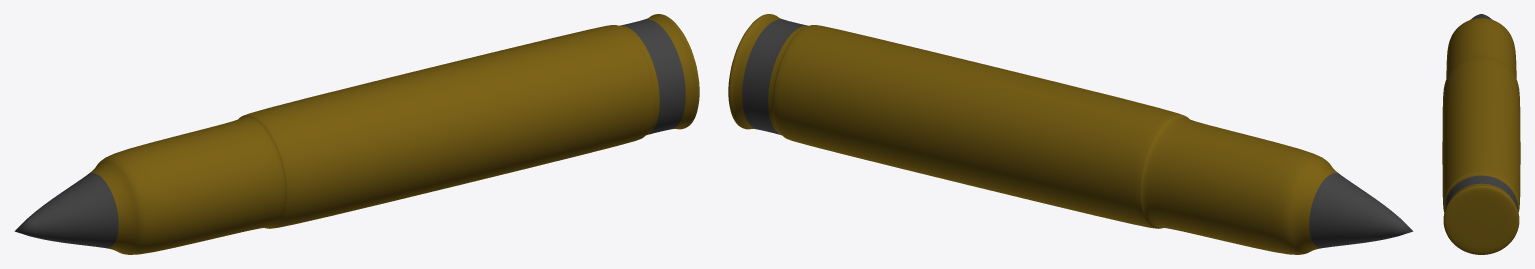
The model's file is Bullet UV complete.fbx.
3 views of the same model, side by side, from view 1: azimuth 30°, elevation 25°; view 2: azimuth 150°, elevation 25°; view 3: azimuth 270°, elevation 25° (orthographic). The views are drawn at different scales.
Visible parts, largest first — view 1: polySurface148; view 2: polySurface148; view 3: polySurface148.
Part boxes in pixels (box(x1,y1,x2,y2)): polySurface148: box(14, 14, 699, 254); polySurface148: box(728, 14, 1413, 254); polySurface148: box(1442, 14, 1520, 254).
Size of the model in its own units: 3.78 by 0.6021 by 0.6022.
